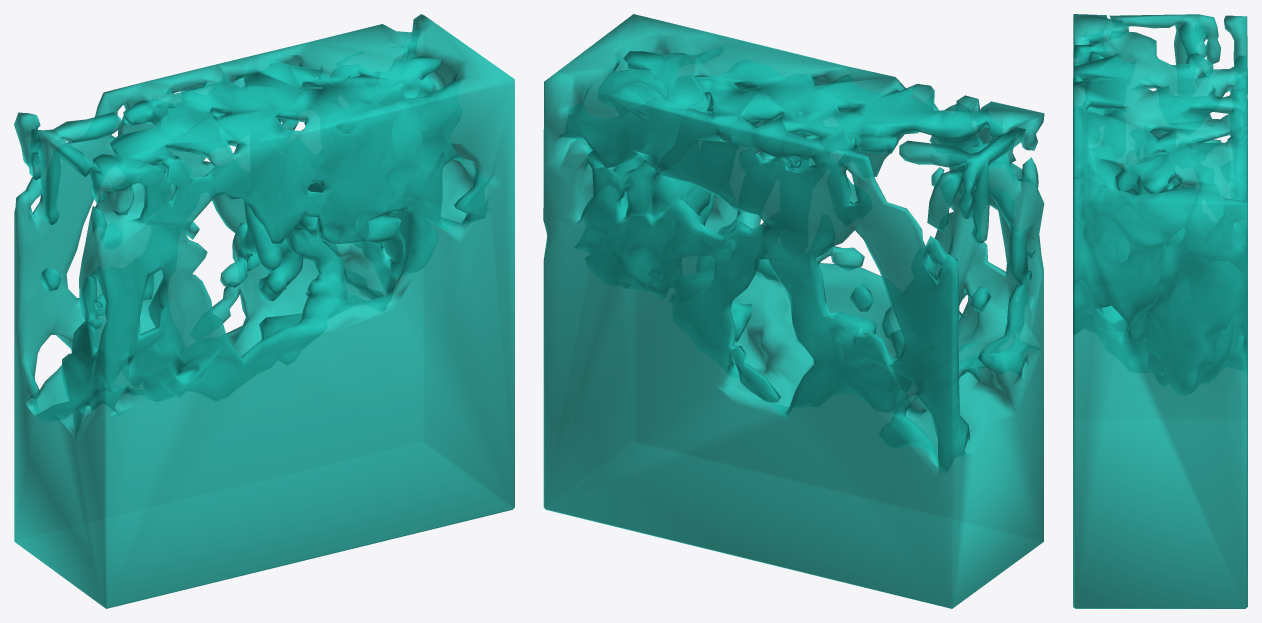
The picture shows the model from 3 angles, left to right: view 1: azimuth 30°, elevation 25°; view 2: azimuth 150°, elevation 25°; view 3: azimuth 270°, elevation 25°; orthographic projection. The views are drawn at different scales.
Visible parts, largest first — view 1: Liquid_Domain; view 2: Liquid_Domain; view 3: Liquid_Domain.
Part boxes in pixels (box(x1,y1,x2,y2)): Liquid_Domain: box(14, 14, 514, 608); Liquid_Domain: box(543, 14, 1044, 608); Liquid_Domain: box(1073, 14, 1247, 608).
Size of the model in its own units: 884 by 885 by 345.
